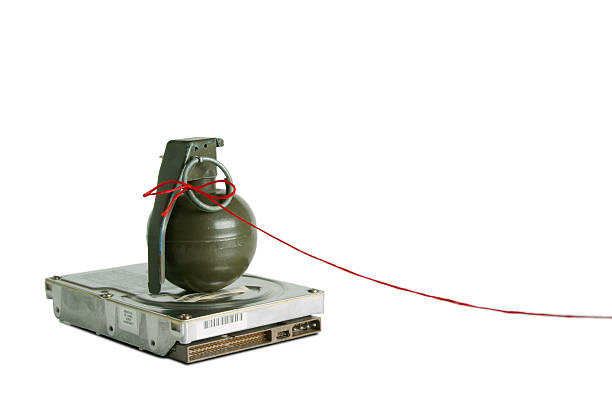e1: (144, 136, 260, 291)
